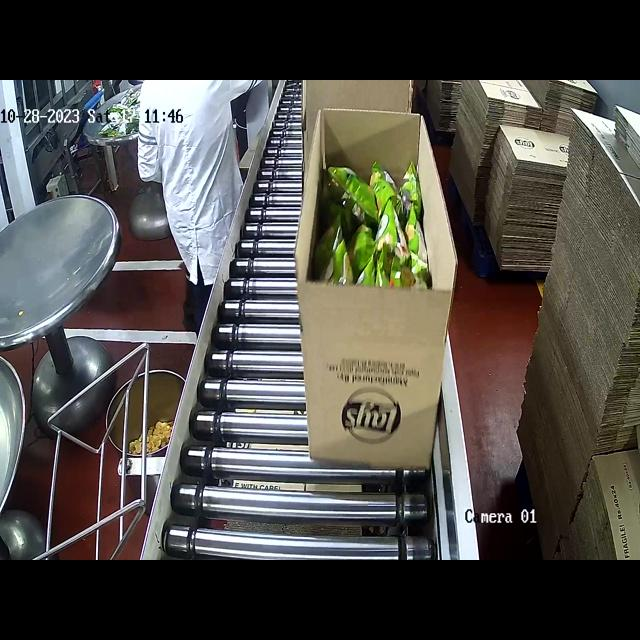yogurt: (315, 147, 443, 293)
